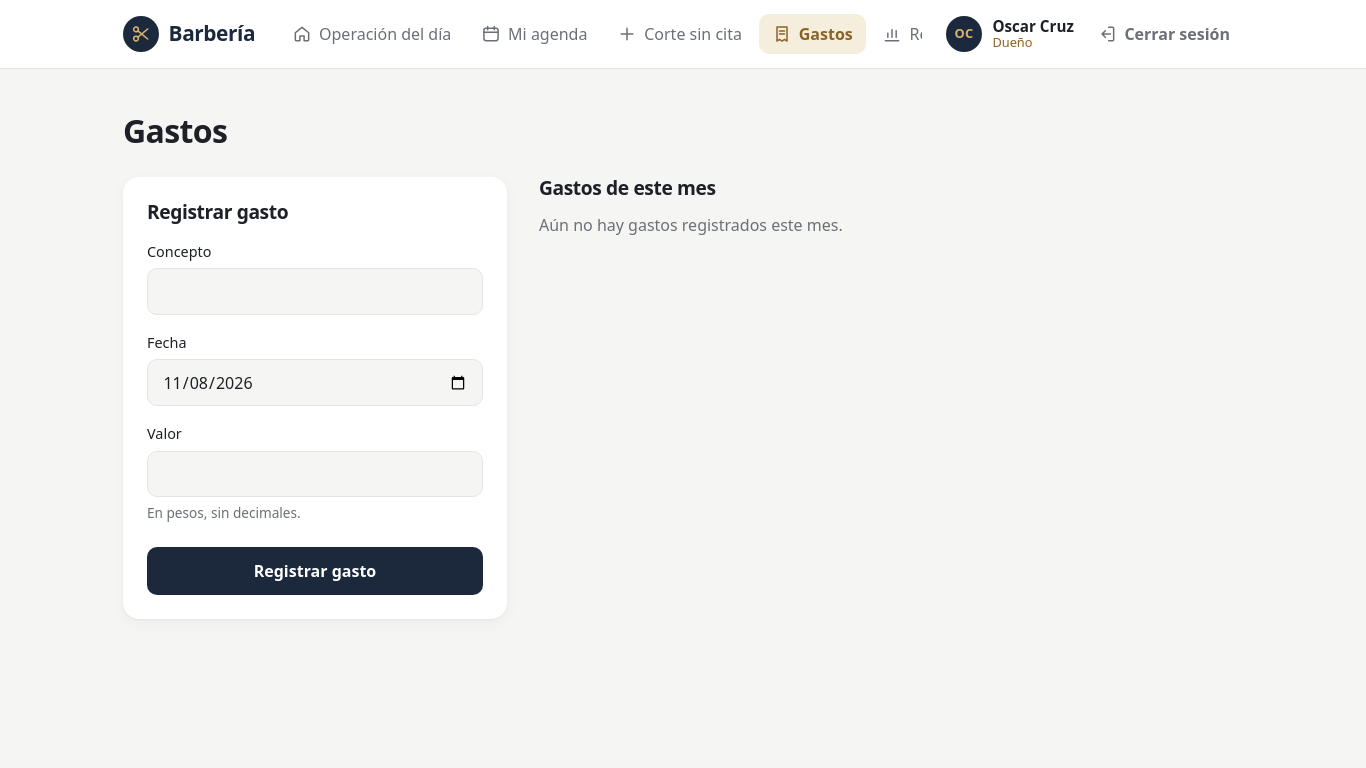
Test: gastos (HU-14) › valida los campos antes de enviar
Click the button "Registrar gasto" at (315, 571), box [147,547,483,595]
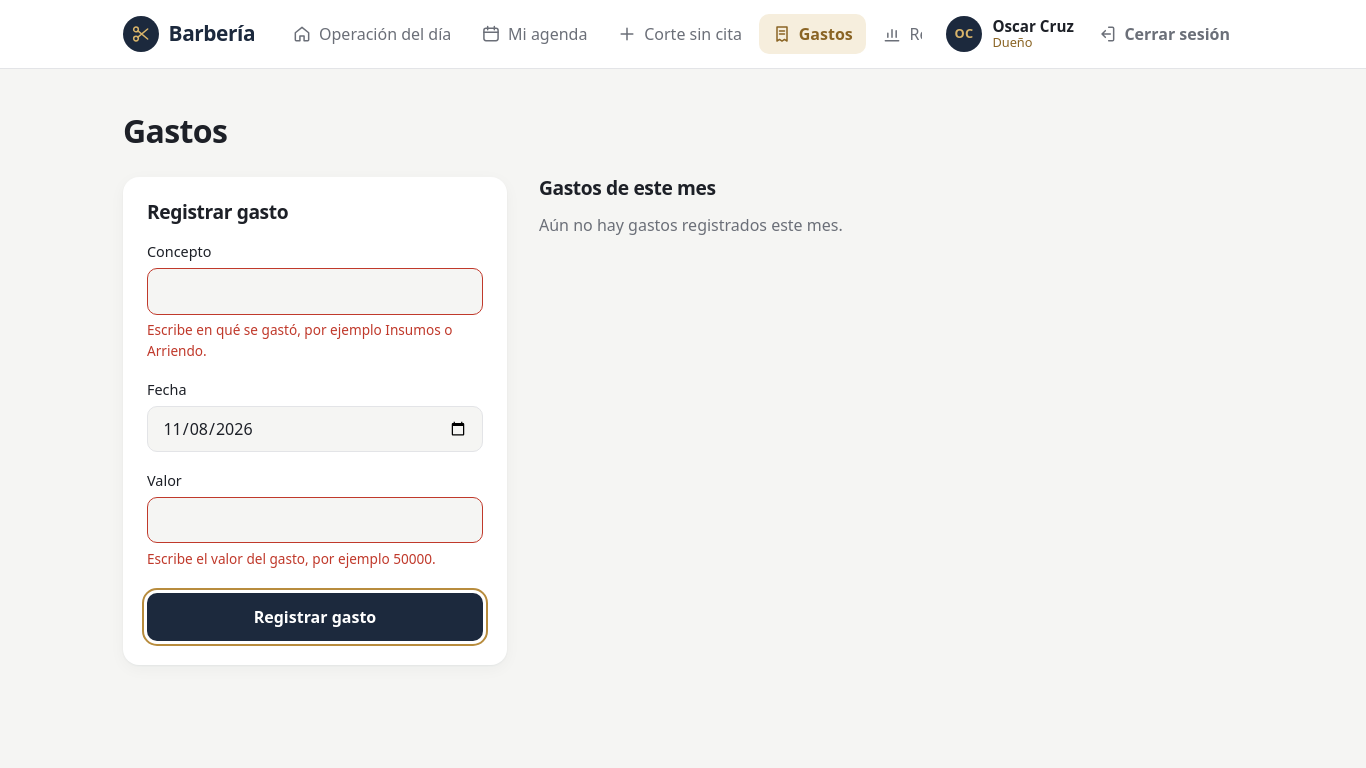
Result: the text "Escribe en qué se gastó, por ejemplo Insumos o Arriendo." is shown at [147,320,483,361]
Result: the text "Escribe el valor del gasto, por ejemplo 50000." is shown at [147,549,483,569]
